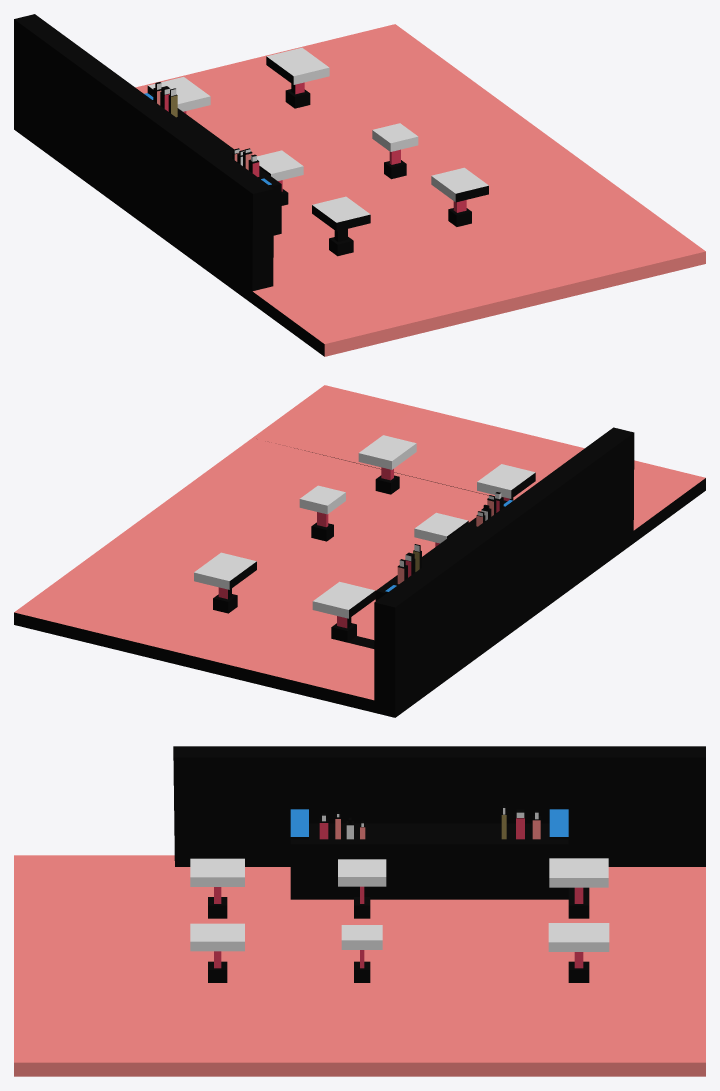
Rendered from Cafe Area 2.fbx.
3 views of the same model, one above another, from view 1: azimuth 30°, elevation 25°; view 2: azimuth 150°, elevation 25°; view 3: azimuth 270°, elevation 25° (orthographic). The views are drawn at different scales.
Parts seen in each view (by area): view 1: Cube.006; view 2: Cube.006; view 3: Cube.006.
Part boxes in pixels (x1=…): Cube.006: x1=14, y1=14, x2=705, y2=356; Cube.006: x1=14, y1=385, x2=705, y2=717; Cube.006: x1=14, y1=746, x2=705, y2=1076.
Size of the model in its own units: 9322 by 2579 by 13153.
